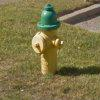Hydrant: (25, 1, 73, 85)
